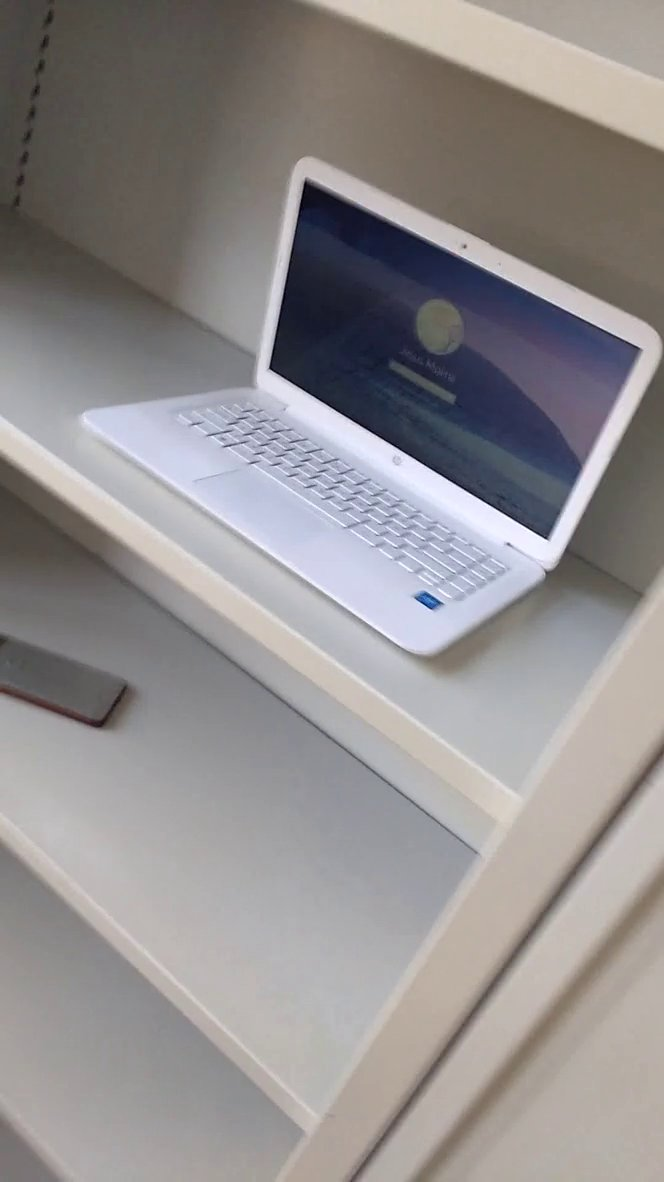laptop: (65, 129, 664, 684)
